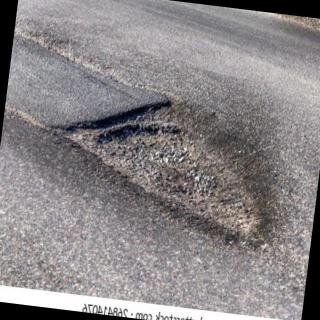pothole: (41, 90, 281, 252)
